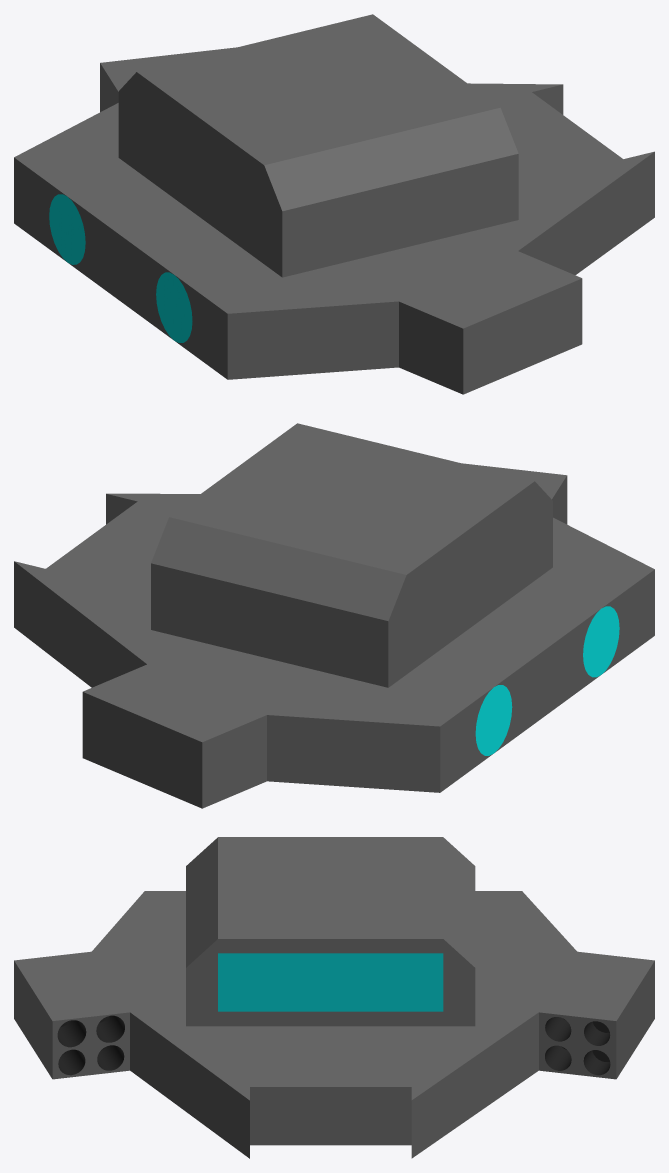
Rendered from PlaceholderShip.dae.
3 renders of one model, top to bottom at view 1: azimuth 30°, elevation 25°; view 2: azimuth 150°, elevation 25°; view 3: azimuth 270°, elevation 25°, orthographic. The views are drawn at different scales.
Visible parts, largest first — view 1: SketchUp (×4); view 2: SketchUp (×4); view 3: SketchUp (×11).
Boxes of the visible parts, <box> form: SketchUp (×4): <box>14,14,654,394</box>; SketchUp (×4): <box>14,423,654,808</box>; SketchUp (×11): <box>14,837,654,1158</box>.
Size of the model in its own units: 1.93 by 2.49 by 0.625.
